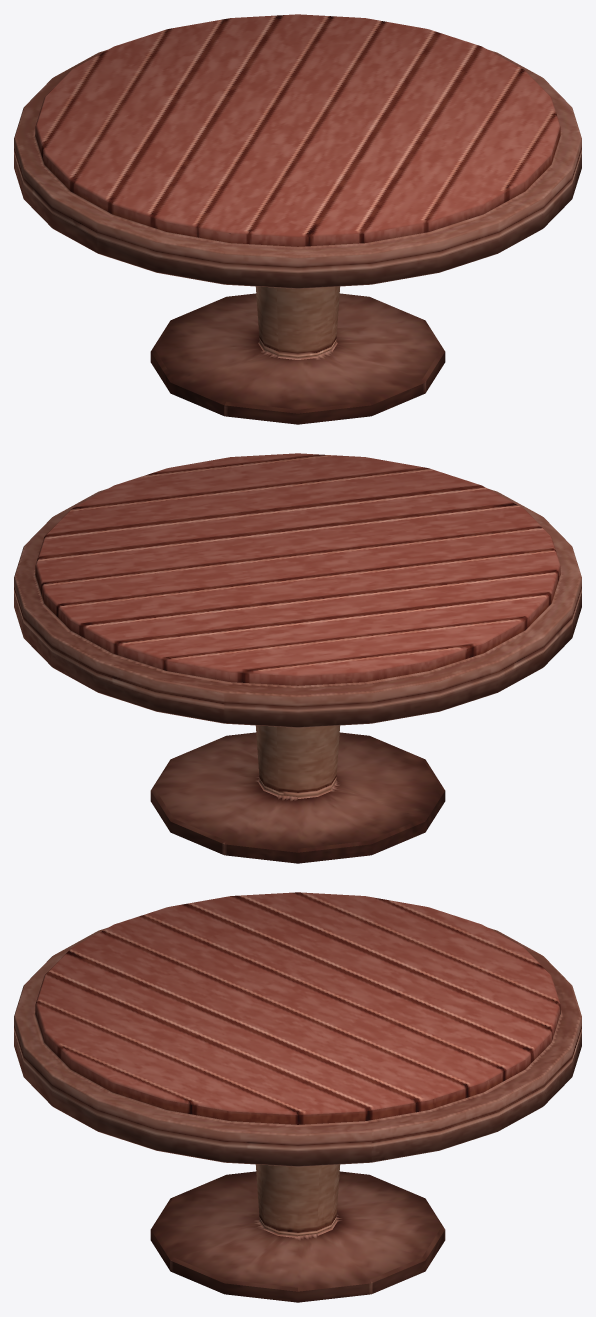
Rendered from Table.fbx.
3 views of the same model, one above another, from view 1: azimuth 30°, elevation 25°; view 2: azimuth 150°, elevation 25°; view 3: azimuth 270°, elevation 25° (orthographic).
Visible parts, largest first — view 1: Table; view 2: Table; view 3: Table.
Part boxes in pixels (bbox=[...]): Table: bbox=[14, 14, 581, 424]; Table: bbox=[14, 453, 581, 863]; Table: bbox=[14, 892, 581, 1302].
Size of the model in its own units: 800 by 370 by 800.
